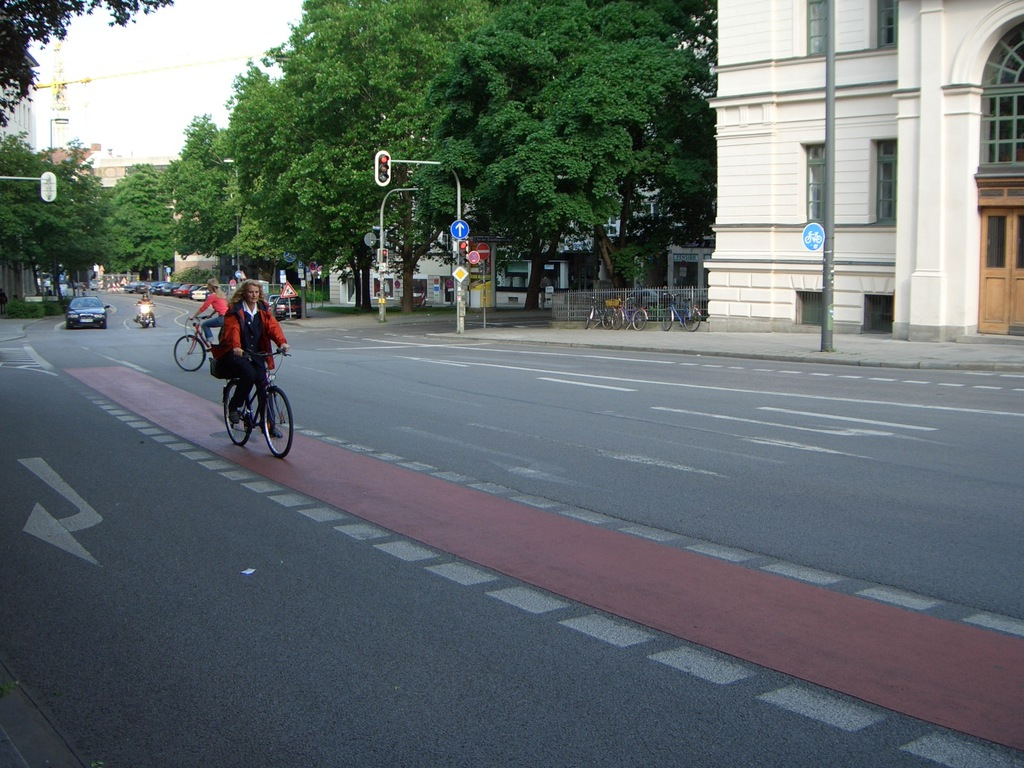Bike_toward: (211, 360, 295, 478)
